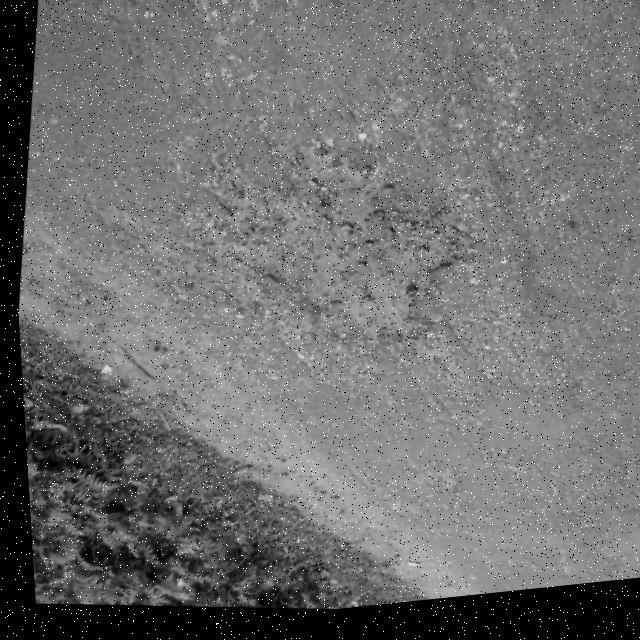pothole: (168, 120, 484, 374)
